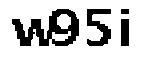5: (84, 4, 113, 48)
9: (49, 9, 80, 47)
i: (118, 6, 137, 48)
w: (7, 18, 52, 49)
